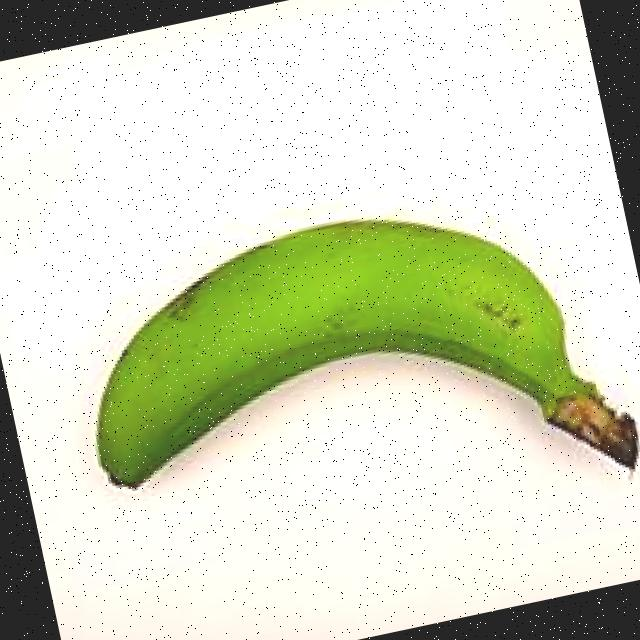Raw: (45, 136, 640, 614)
